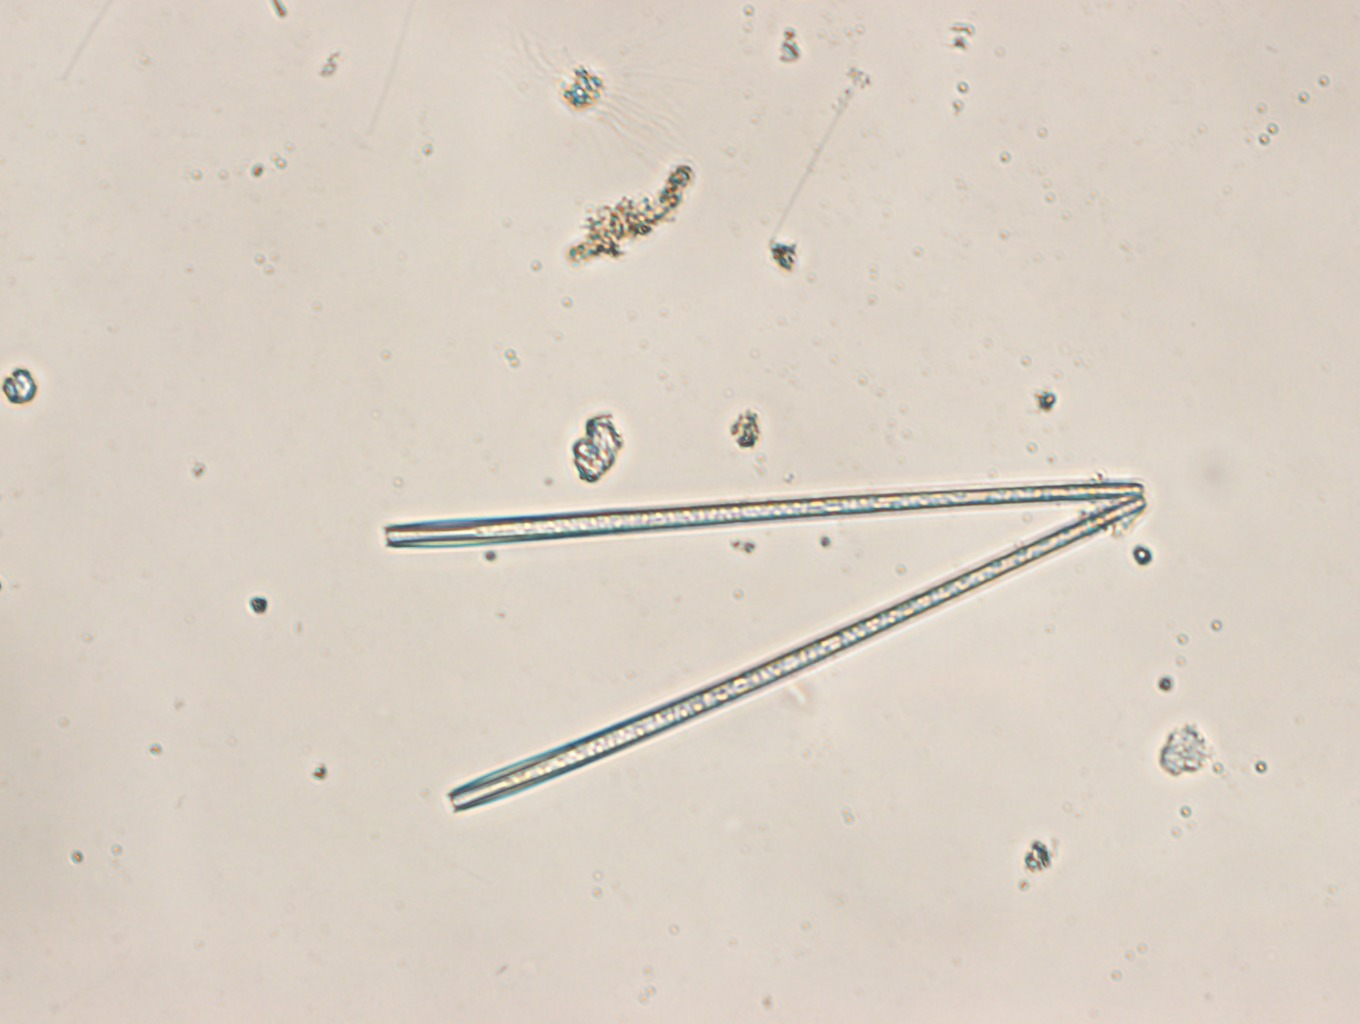thalassionema frauenfeldii: (380, 470, 1153, 813)
